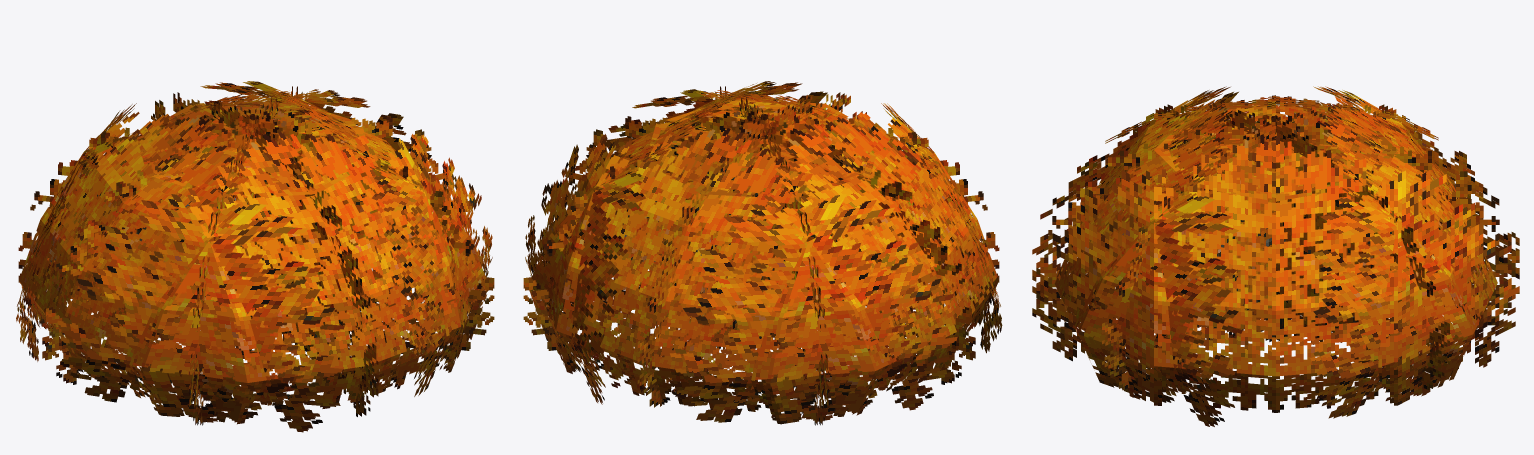
File: bush06_fall.glb
The picture shows the model from 3 angles, left to right: view 1: azimuth 30°, elevation 25°; view 2: azimuth 150°, elevation 25°; view 3: azimuth 270°, elevation 25°; orthographic projection.
Visible parts, largest first — view 1: bush06; view 2: bush06; view 3: bush06.
Part boxes in pixels (x1,y1,x2,y2): bush06: (16,81,494,432); bush06: (523,81,1002,425); bush06: (1032,86,1519,426).
Bounding box in the file's own units: 3 × 1.5 × 3.
1 material, 1 textured.
